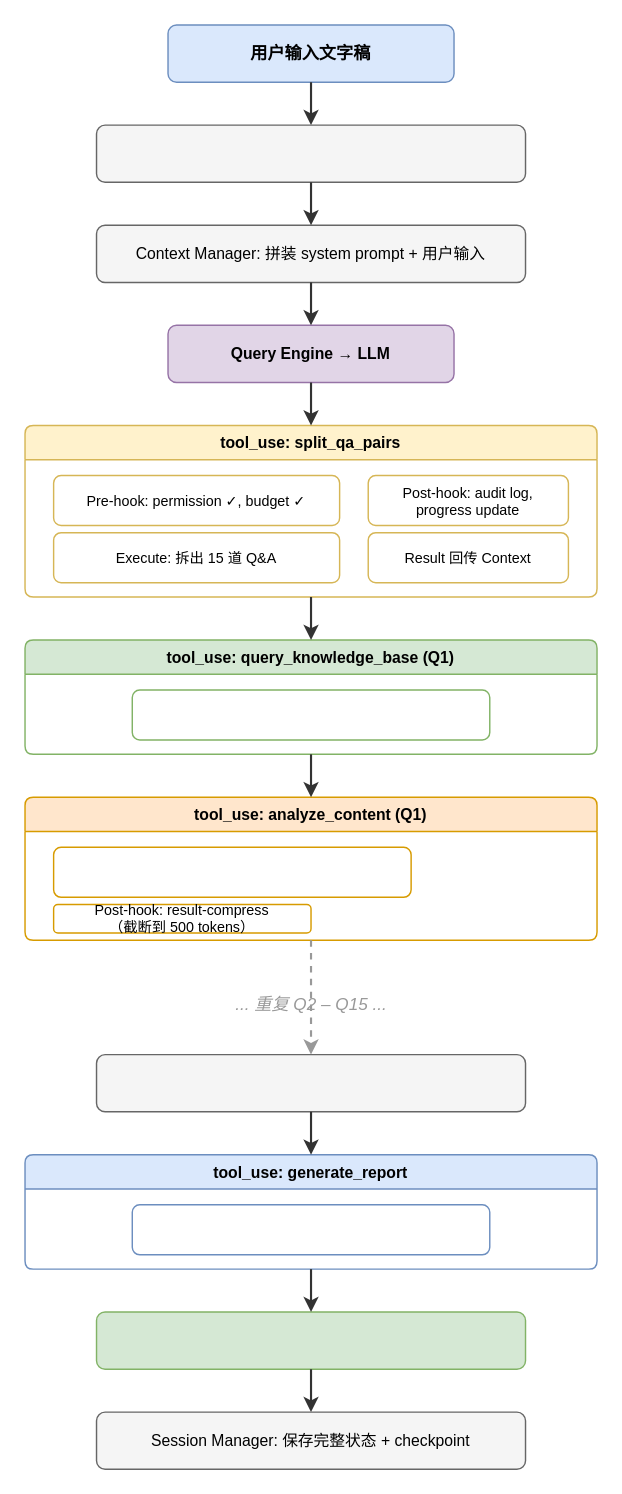
Image size: 622x1494. Some labels were removed from this diagram. Here are the shapes that lost their labels. From the top down, the centre of each, then its label:
At pixel 310 153: "CommandParser: 不是命令，进入 Agent Loop".
At pixel 310 714: "Execute: FTS5 + embedding → top-3 参考答案".
At pixel 231 871: "Execute: 对比用户答案 vs 参考 → 诊断结果".
At pixel 310 1082: "Context Manager: 历史诊断结果已压缩为摘要".
At pixel 310 1229: "Execute: 汇总所有诊断 → 结构化报告".
At pixel 310 1340: "LLM 返回 text: 最终报告输出给用户".
